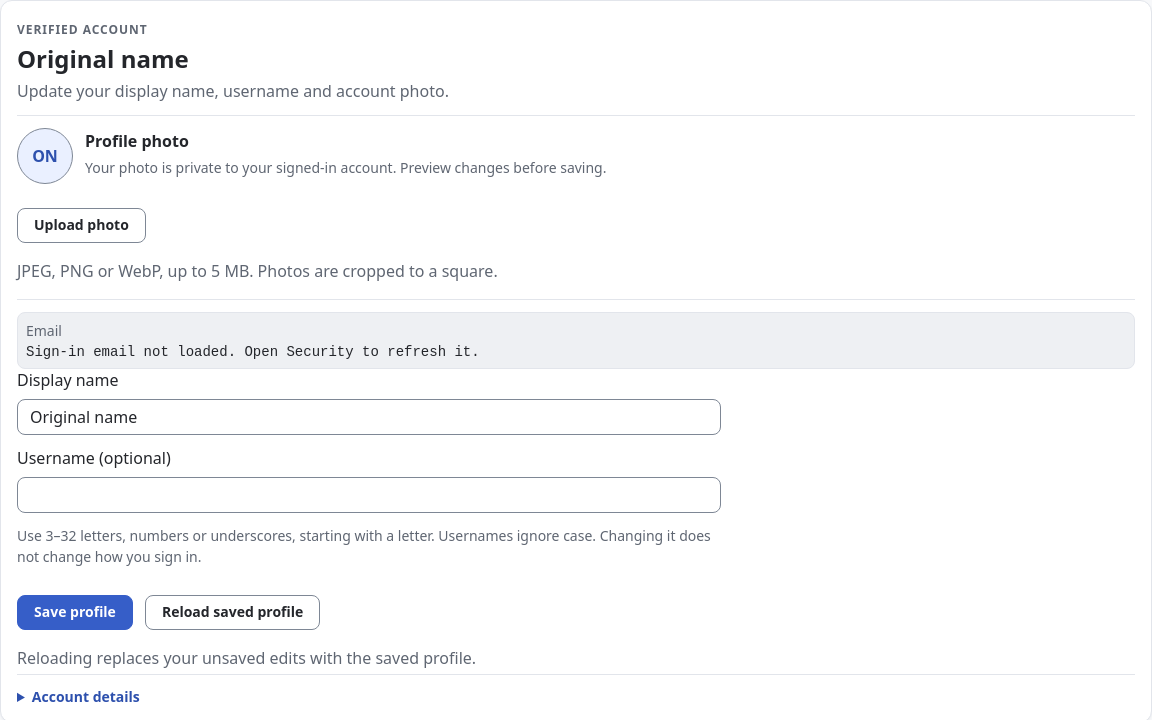
Scenario: verified account profile form › saves with the loaded ETag and confirms profile plus current-principal readback
The image size is (1152, 720).
Replace the text in the field labelled "Display name" with "Updated name". click: (369, 417)
box: [17,399,721,435]
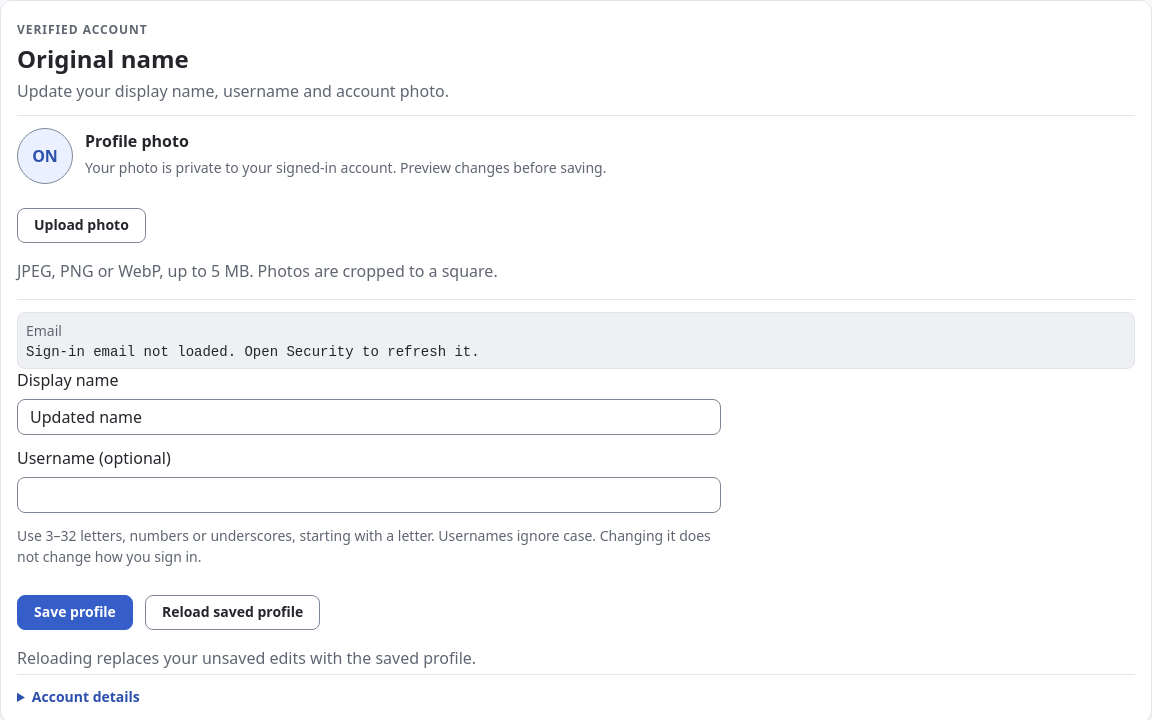
Type "New_User" into the field labelled "Username (optional)". click: (369, 495)
box: [17,477,721,513]
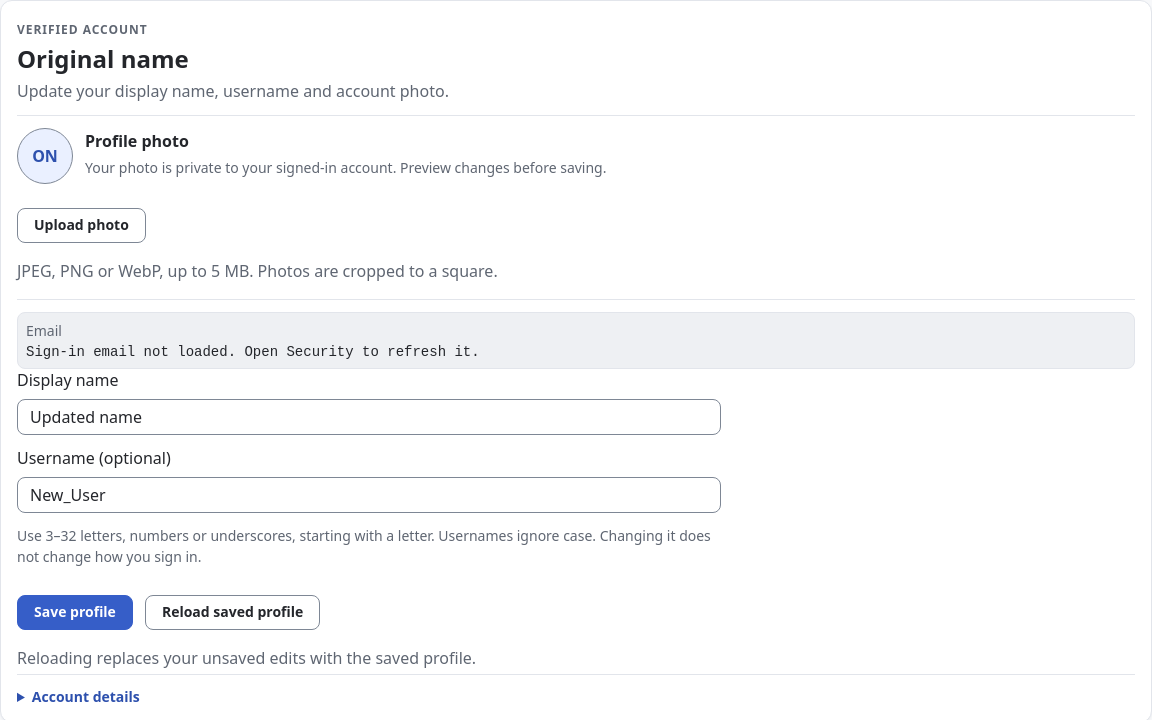
Click the button "Save profile". click: (75, 613)
box: [17,595,133,630]
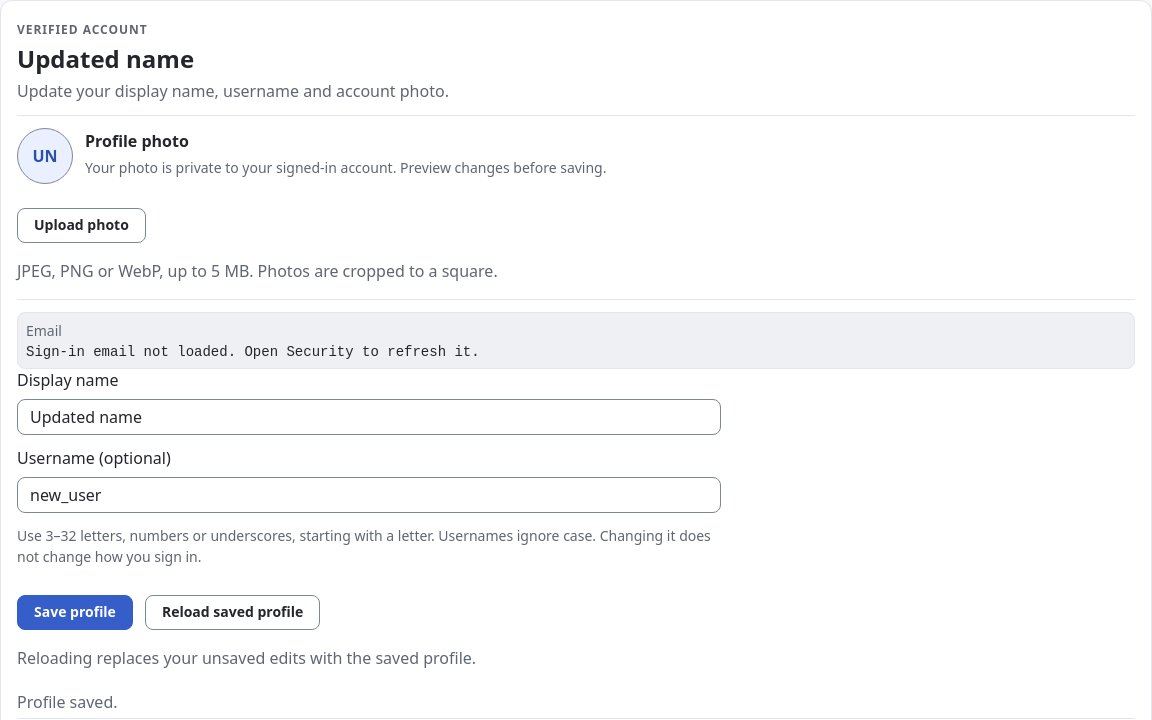
Check: the text "Profile saved." is shown, box [17,691,118,713]
